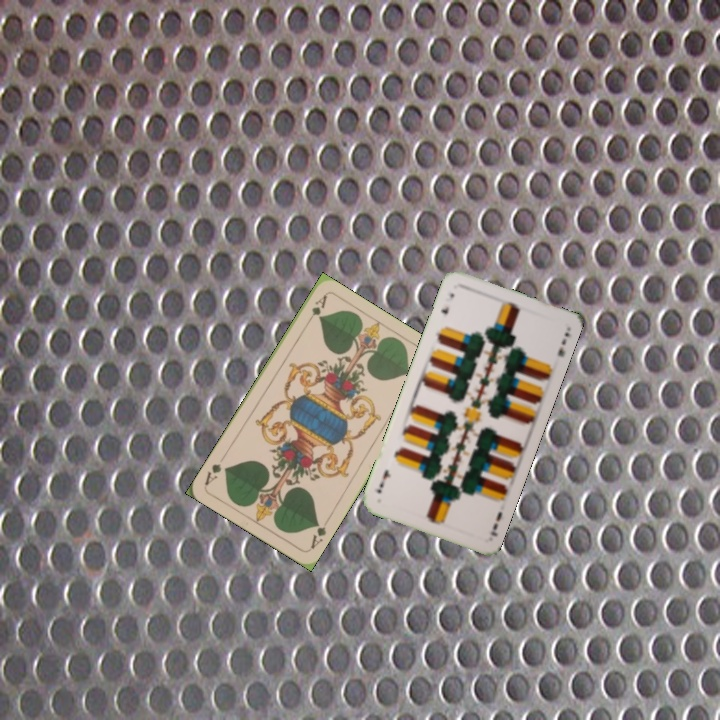E7: (486, 508, 505, 539), (437, 289, 457, 317)
GA: (302, 291, 330, 328), (306, 518, 329, 552)
